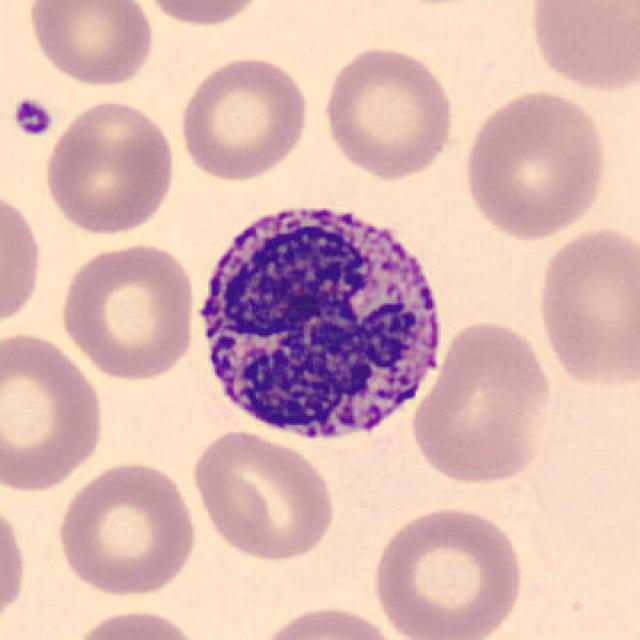Basophil: (185, 189, 451, 455)
Platelets: (9, 95, 55, 139)
RBC: (407, 316, 557, 488), (458, 86, 612, 242), (368, 500, 528, 640), (51, 456, 201, 600), (186, 427, 340, 564), (55, 238, 199, 383), (318, 42, 459, 182), (41, 95, 179, 238), (0, 327, 108, 495), (174, 53, 313, 183), (532, 222, 638, 392), (23, 0, 157, 88), (524, 0, 638, 95), (0, 185, 46, 333), (252, 603, 402, 640), (66, 606, 208, 640), (0, 494, 30, 636), (135, 0, 272, 30)
